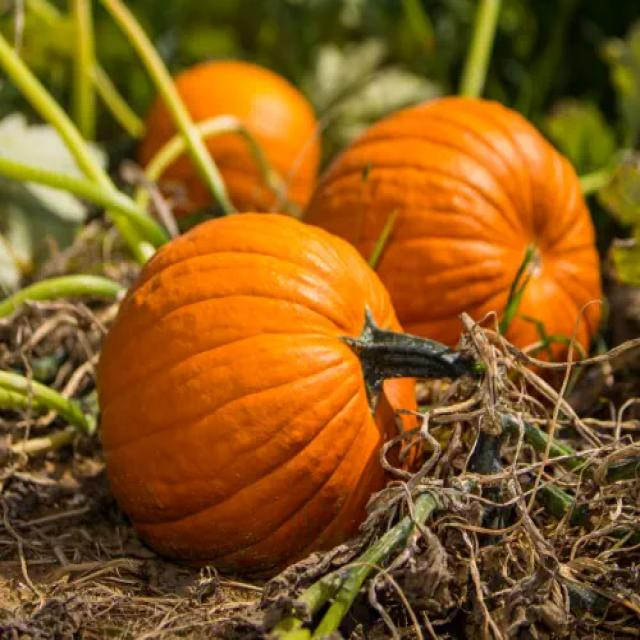pumpkin: (98, 214, 475, 569), (305, 98, 601, 360), (178, 61, 320, 213), (164, 157, 212, 213), (140, 100, 176, 161)
